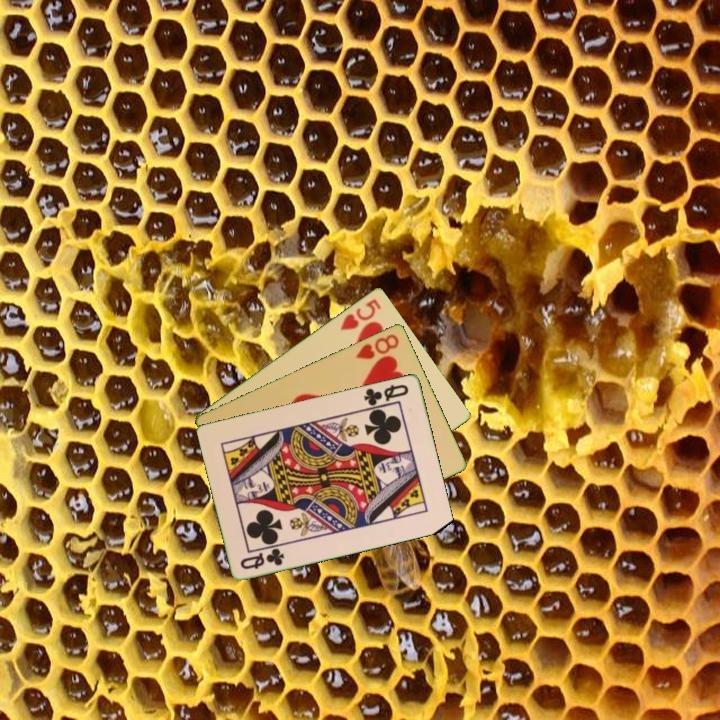5h: (337, 295, 384, 333)
8h: (352, 330, 402, 362)
Qc: (360, 380, 412, 411), (237, 544, 288, 572)
